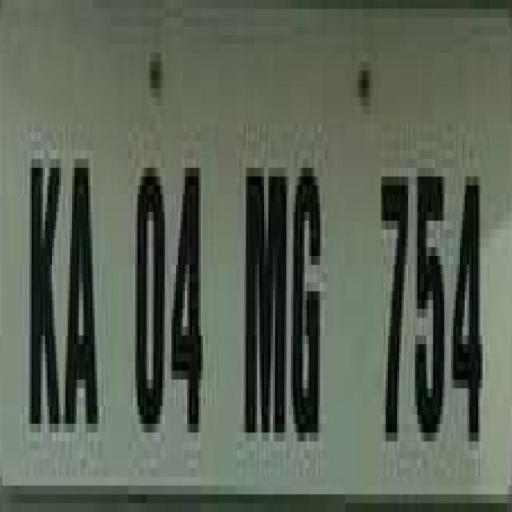number plate: (13, 0, 512, 503)
